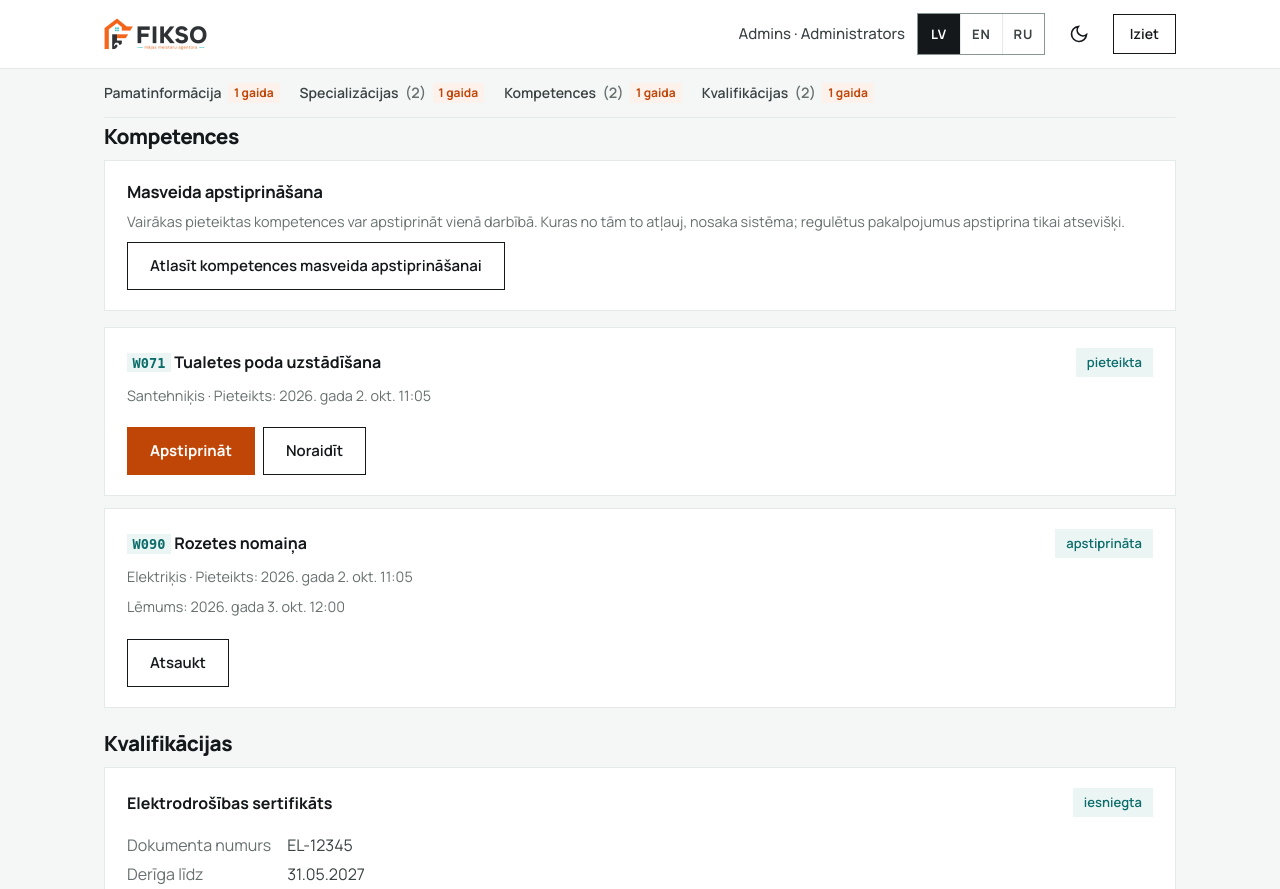
Test: master card: decisions › competency verify posts only expected_version
(page scrolled)
Click the button with aria-label "Apstiprināt: W071 Tualetes poda uzstādīšana". click: (191, 451)
box: x1=127 y1=427 x2=255 y2=475
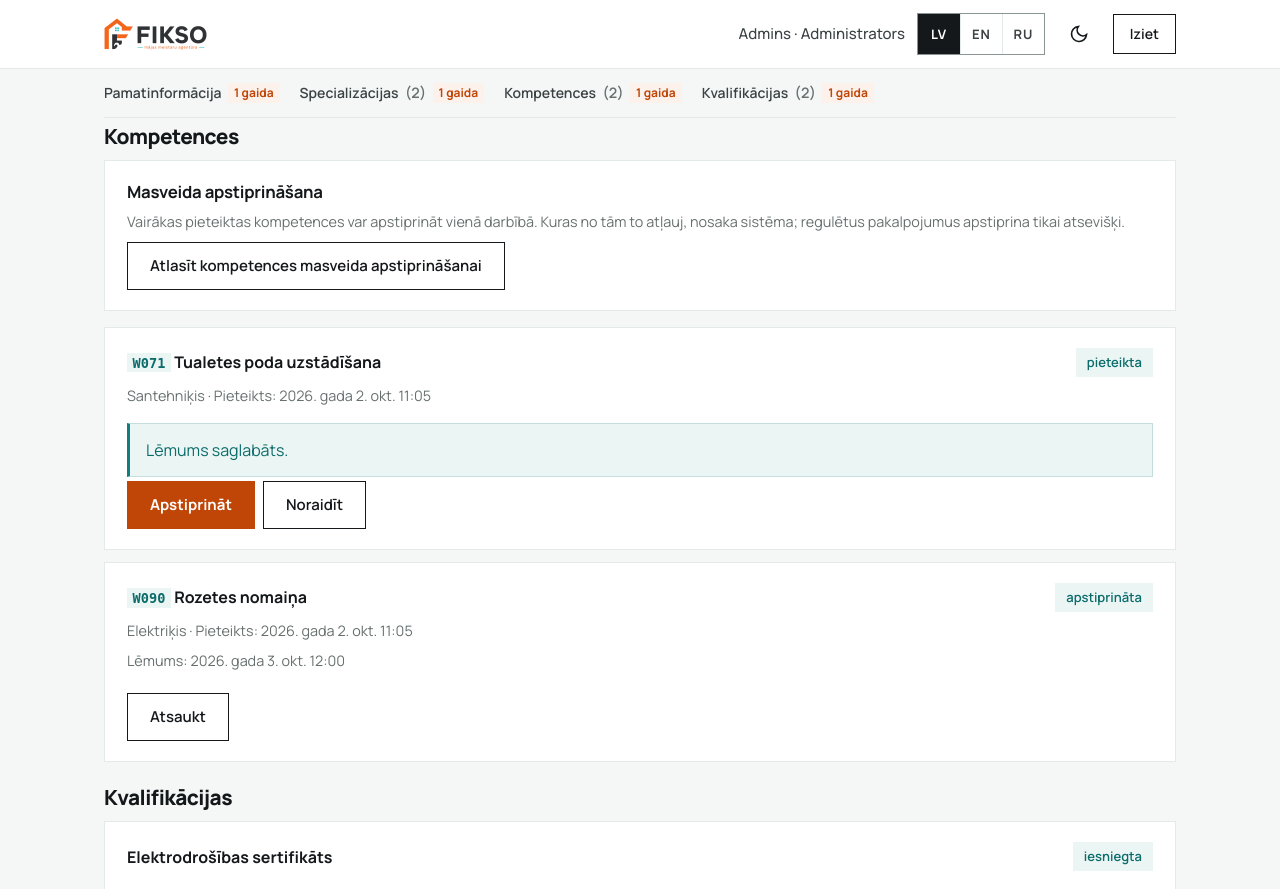
Now the text "Lēmums saglabāts." is shown, box x1=127 y1=423 x2=1153 y2=477
